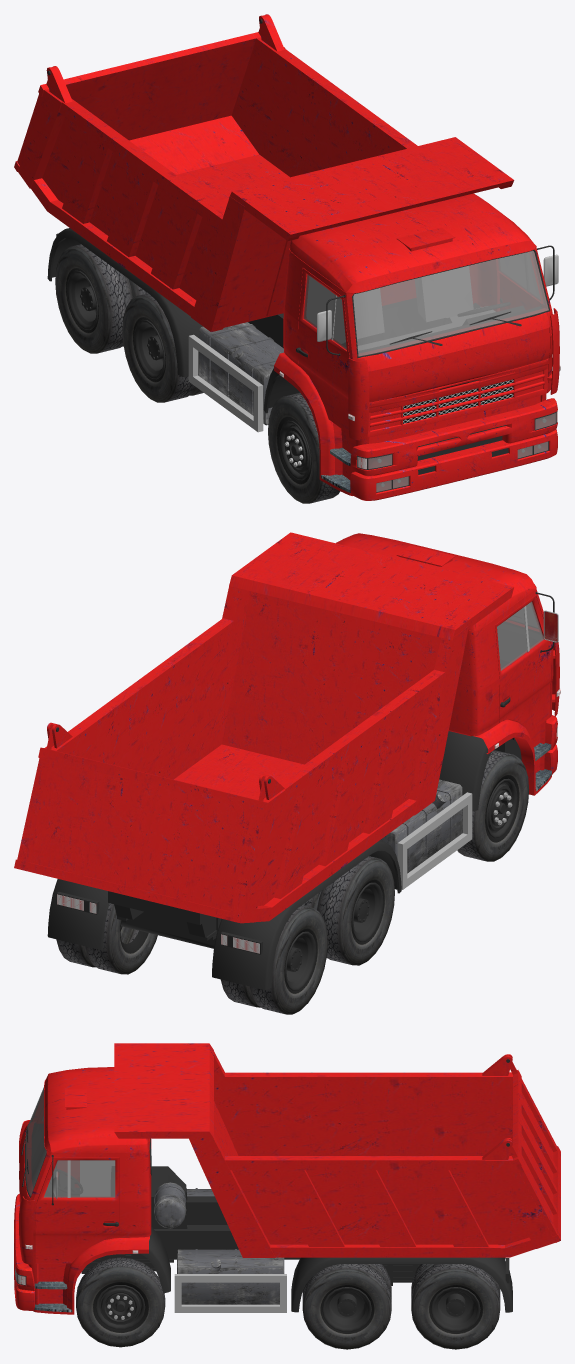
The model's file is yunzhache.FBX.
3 renders of one model, top to bottom at view 1: azimuth 30°, elevation 25°; view 2: azimuth 150°, elevation 25°; view 3: azimuth 270°, elevation 25°, orthographic. The views are drawn at different scales.
Visible parts, largest first — view 1: yunzhache; view 2: yunzhache; view 3: yunzhache.
Boxes of the visible parts, x1,y1,x2,y2 form: yunzhache: (14, 14, 560, 503); yunzhache: (14, 532, 560, 1014); yunzhache: (14, 1043, 560, 1349).
Bounding box in the file's own units: 362 × 387 × 876.
Materials: 11 (10 with a texture image).
